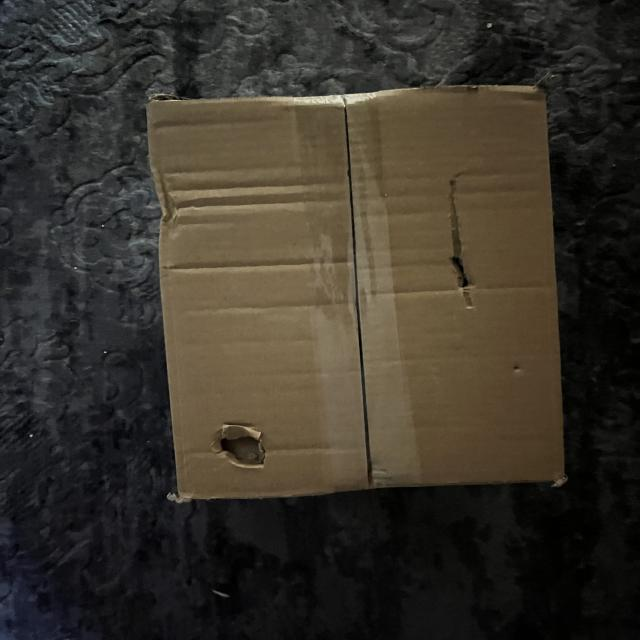damaged: (144, 79, 587, 505), (192, 411, 308, 489), (436, 158, 489, 320), (133, 149, 217, 249)
